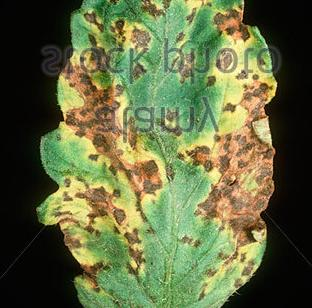Tomato Septoria leaf spot: (27, 0, 295, 308)
